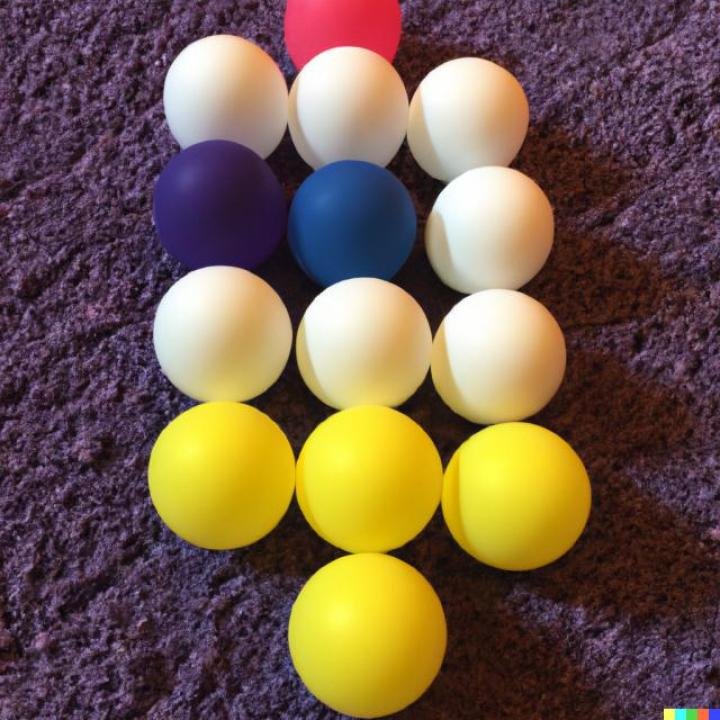white: (430, 288, 569, 423), (156, 266, 292, 402), (296, 276, 432, 410), (428, 167, 556, 295), (164, 35, 288, 160), (409, 56, 531, 180), (289, 47, 407, 168)
